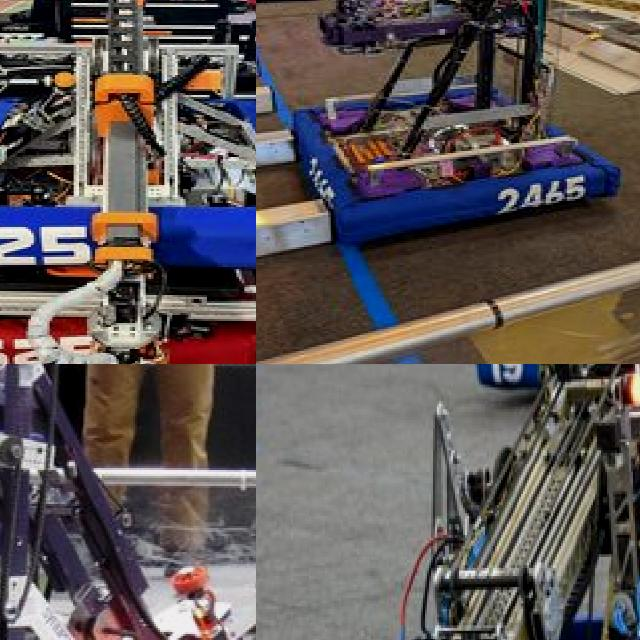FRC-Robots: (272, 364, 640, 640), (256, 0, 640, 227), (0, 0, 256, 305), (0, 364, 256, 640)
